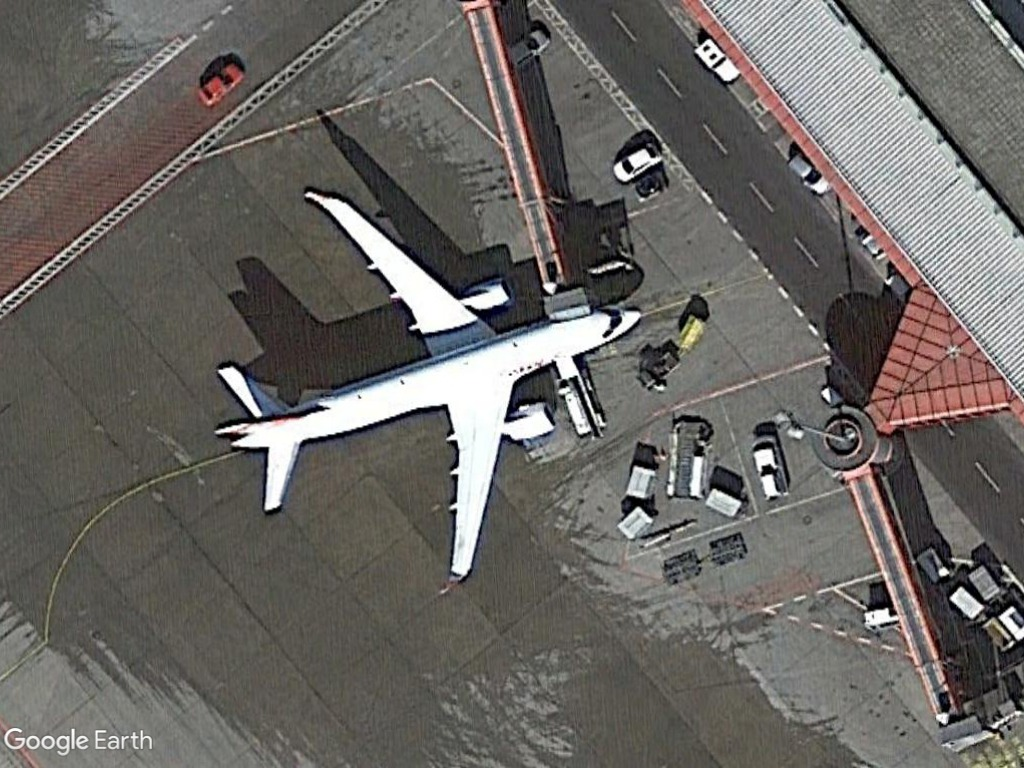airliner: (216, 190, 646, 589)
car: (192, 60, 248, 112), (783, 148, 834, 200), (608, 143, 664, 184)
pushbacktruck: (662, 416, 717, 504)
